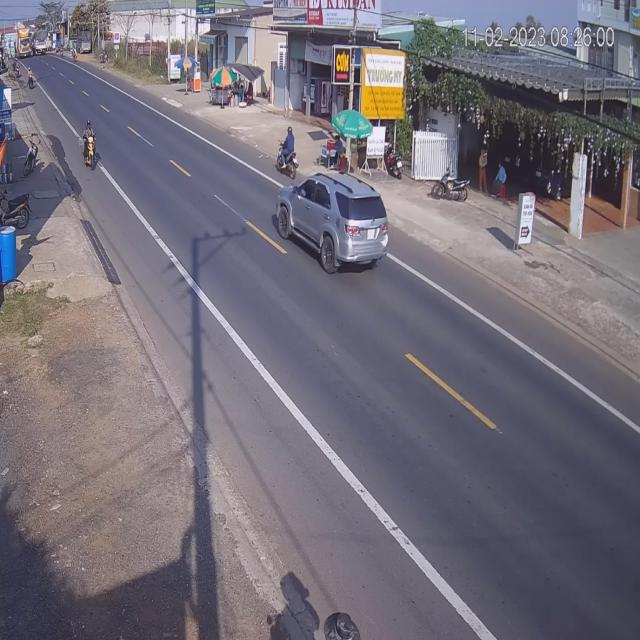car: (278, 168, 392, 274)
motorbike: (277, 126, 297, 178), (81, 120, 98, 171), (25, 135, 39, 177)
